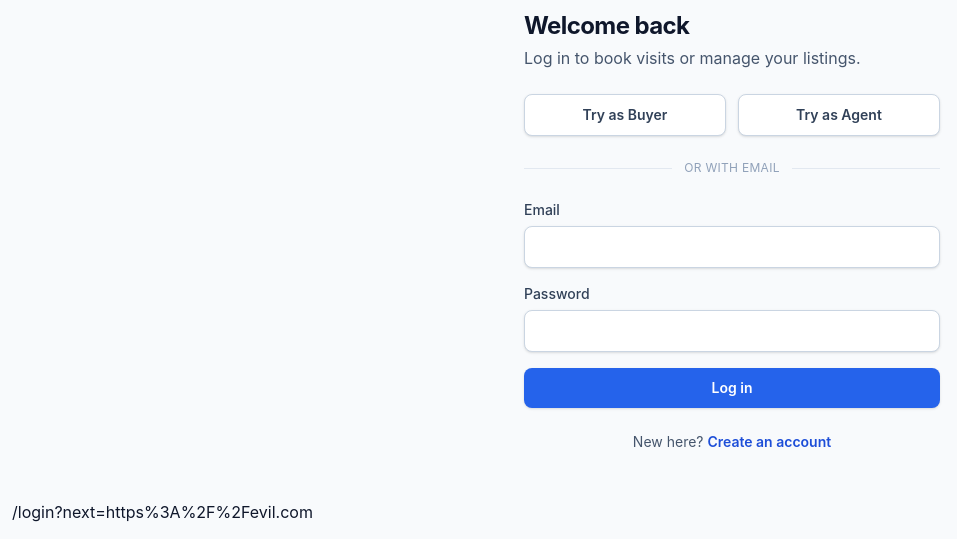
Scenario: <LoginPage> › ignores an off-site ?next
Click the button "Try as Buyer" at (625, 115), box top-left (524, 94), bottom-right (726, 136)
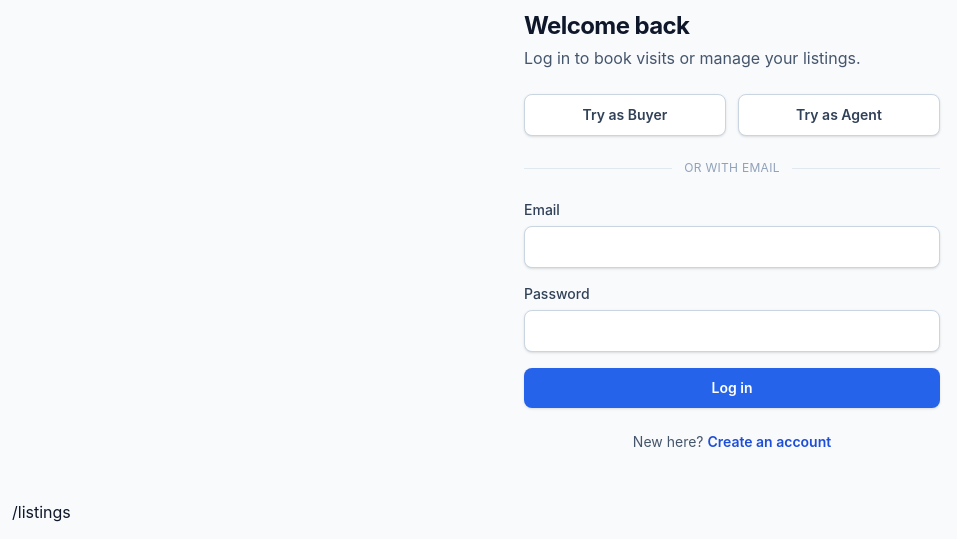
expect the text with test id "location" reads "/listings": met, box top-left (12, 502), bottom-right (71, 522)
